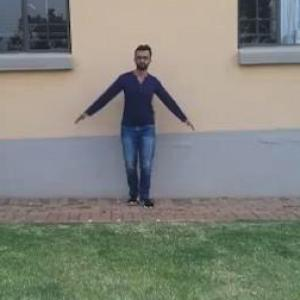land: (77, 48, 190, 220)
